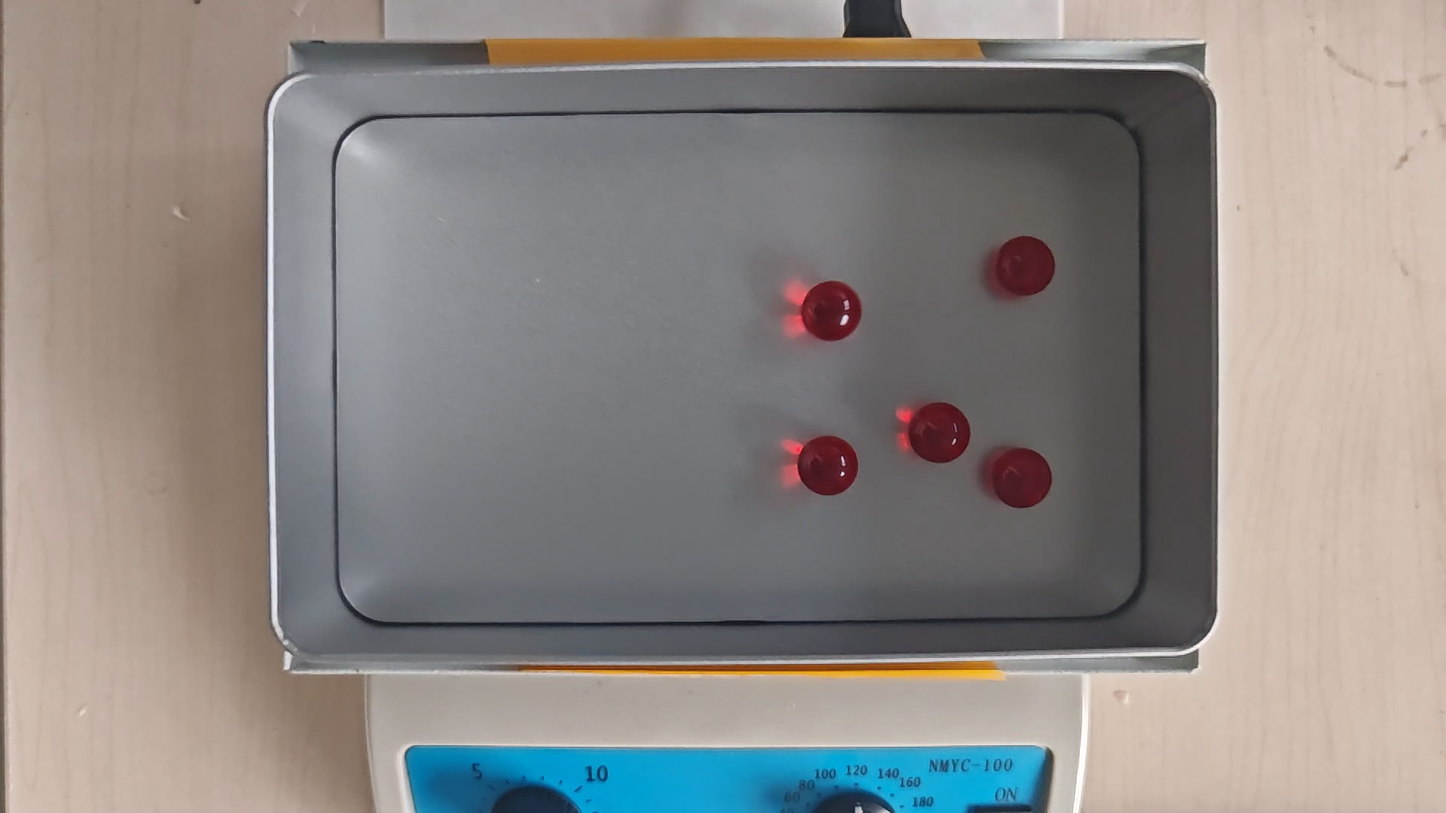ball: (798, 435, 858, 498), (803, 279, 861, 344), (910, 402, 969, 464), (993, 447, 1051, 510), (996, 237, 1056, 297)
container: (328, 110, 1142, 622)
